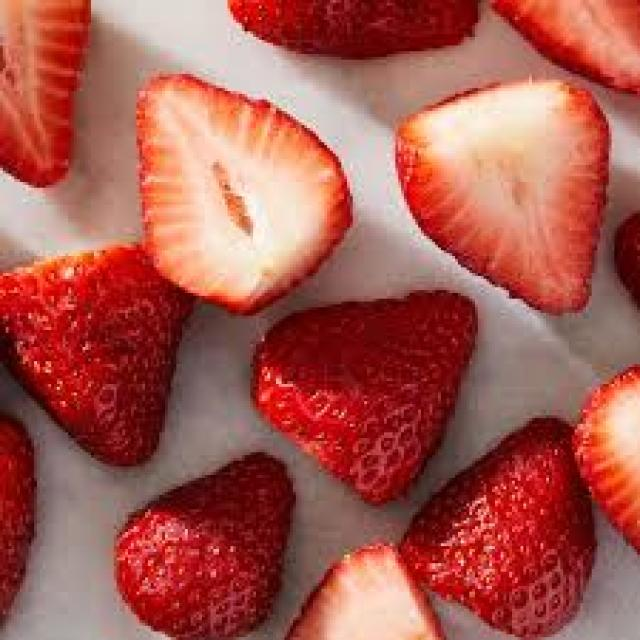strawberry: (390, 78, 620, 312), (132, 73, 356, 298), (0, 230, 202, 444), (252, 285, 472, 479), (418, 414, 598, 638), (106, 461, 292, 625)
